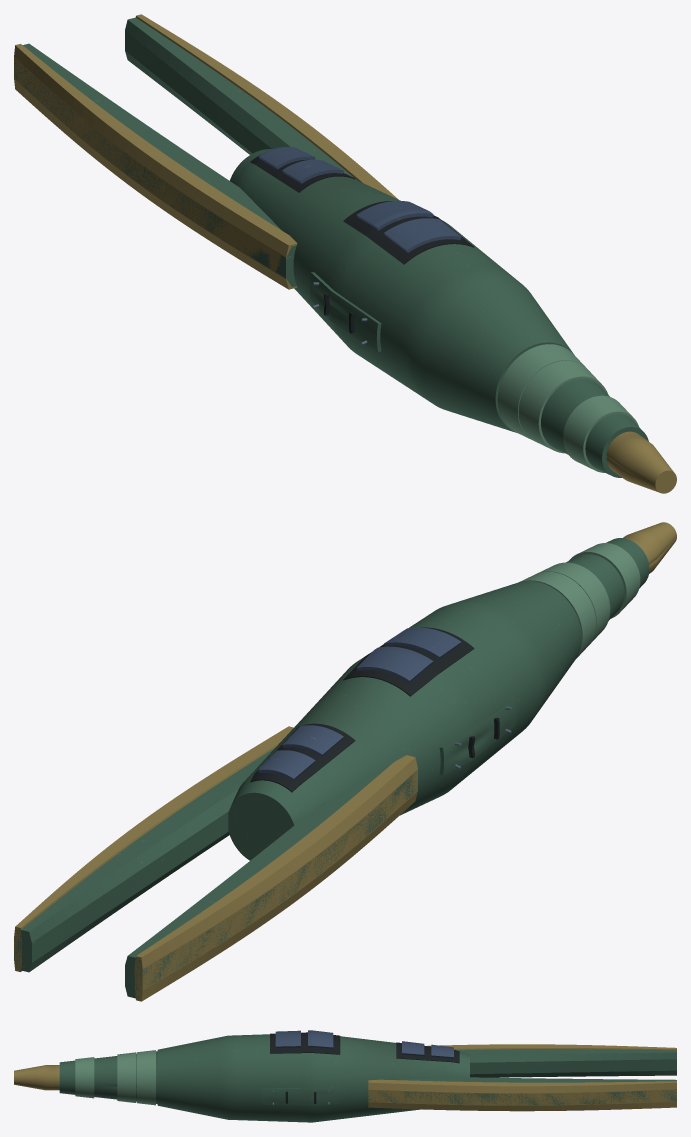
3 renders of one model, top to bottom at view 1: azimuth 30°, elevation 25°; view 2: azimuth 150°, elevation 25°; view 3: azimuth 270°, elevation 25°, orthographic. The views are drawn at different scales.
Parts seen in each view (by area): view 1: Rigellian Flare green core, Rigellian Flare gold rail 0, Rigellian Flare rear prong 1, Rigellian Flare rear prong 0, Rigellian Flare forward neck, Rigellian Flare gold rail 1, Rigellian Flare gold forward fitting, Rigellian Flare pale band 1, Rigellian Flare pale band 2, Rigellian Flare pale band 0, Rigellian Flare service cover 1, Rigellian Flare centre recess surround 0 (+5 smaller); view 2: Rigellian Flare green core, Rigellian Flare gold rail 0, Rigellian Flare rear prong 1, Rigellian Flare rear prong 0, Rigellian Flare gold rail 1, Rigellian Flare service cover 1, Rigellian Flare forward neck, Rigellian Flare centre recess surround 0, Rigellian Flare pale band 2, Rigellian Flare blue centre insert 0 1, Rigellian Flare pale band 1, Rigellian Flare centre recess surround 1 (+5 smaller); view 3: Rigellian Flare green core, Rigellian Flare gold rail 1, Rigellian Flare rear prong 0, Rigellian Flare rear prong 1, Rigellian Flare forward neck, Rigellian Flare service cover 0, Rigellian Flare gold rail 0, Rigellian Flare pale band 2, Rigellian Flare gold forward fitting, Rigellian Flare pale band 1, Rigellian Flare pale band 0, Rigellian Flare centre recess surround 0 (+5 smaller).
Boxes of the visible parts, bbox=[...] form: Rigellian Flare green core: bbox=[230, 149, 573, 432]; Rigellian Flare gold rail 0: bbox=[14, 44, 297, 289]; Rigellian Flare rear prong 1: bbox=[125, 17, 356, 179]; Rigellian Flare rear prong 0: bbox=[14, 43, 296, 286]; Rigellian Flare forward neck: bbox=[503, 362, 648, 477]; Rigellian Flare gold rail 1: bbox=[135, 14, 398, 199]; Rigellian Flare gold forward fitting: bbox=[606, 431, 676, 493]; Rigellian Flare pale band 1: bbox=[518, 360, 607, 453]; Rigellian Flare pale band 2: bbox=[497, 344, 585, 439]; Rigellian Flare pale band 0: bbox=[563, 395, 638, 472]; Rigellian Flare service cover 1: bbox=[310, 272, 381, 352]; Rigellian Flare centre recess surround 0: bbox=[343, 201, 474, 264]; Rigellian Flare green core: bbox=[228, 581, 581, 860]; Rigellian Flare gold rail 0: bbox=[134, 755, 417, 1001]; Rigellian Flare rear prong 1: bbox=[14, 747, 275, 972]; Rigellian Flare rear prong 0: bbox=[125, 769, 417, 998]; Rigellian Flare gold rail 1: bbox=[14, 726, 293, 971]; Rigellian Flare service cover 1: bbox=[439, 696, 516, 775]; Rigellian Flare forward neck: bbox=[566, 538, 649, 620]; Rigellian Flare centre recess surround 0: bbox=[343, 627, 474, 696]; Rigellian Flare pale band 2: bbox=[519, 571, 596, 658]; Rigellian Flare blue centre insert 0 1: bbox=[356, 646, 433, 683]; Rigellian Flare pale band 1: bbox=[537, 562, 610, 644]; Rigellian Flare centre recess surround 1: bbox=[250, 723, 355, 792]; Rigellian Flare green core: bbox=[157, 1034, 469, 1122]; Rigellian Flare gold rail 1: bbox=[368, 1079, 676, 1111]; Rigellian Flare rear prong 0: bbox=[456, 1049, 676, 1077]; Rigellian Flare rear prong 1: bbox=[368, 1077, 676, 1105]; Rigellian Flare forward neck: bbox=[59, 1051, 157, 1103]; Rigellian Flare service cover 0: bbox=[261, 1087, 340, 1105]; Rigellian Flare gold rail 0: bbox=[428, 1044, 676, 1050]; Rigellian Flare pale band 2: bbox=[137, 1050, 155, 1105]; Rigellian Flare gold forward fitting: bbox=[14, 1065, 59, 1090]; Rigellian Flare pale band 1: bbox=[117, 1052, 136, 1102]; Rigellian Flare pale band 0: bbox=[75, 1057, 94, 1098]; Rigellian Flare centre recess surround 0: bbox=[270, 1032, 340, 1054].
Size of the model in its own units: 0.3672 by 0.329 by 2.36.
6 materials, 3 textured.
